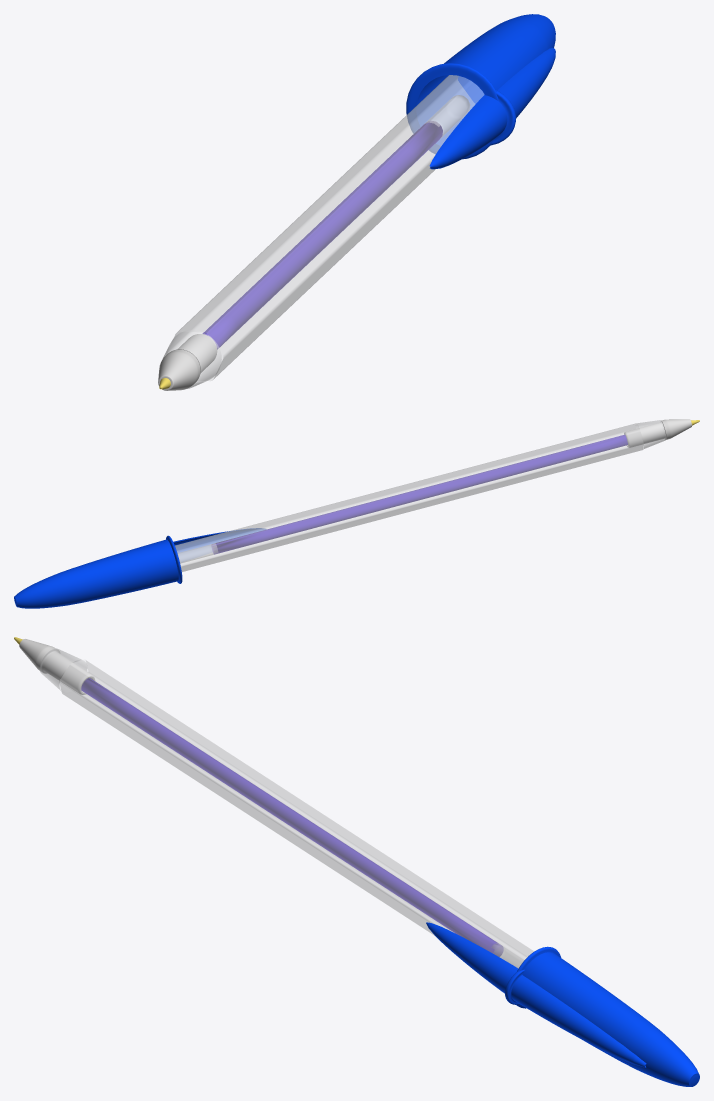
Rendered from stylo.glb.
3 renders of one model, top to bottom at view 1: azimuth 30°, elevation 25°; view 2: azimuth 150°, elevation 25°; view 3: azimuth 270°, elevation 25°, orthographic. The views are drawn at different scales.
Visible parts, largest first — view 1: Object_2; view 2: Object_2; view 3: Object_2.
Part boxes in pixels (left/top/right/bottom): Object_2: left=158, top=14, right=555, bottom=390; Object_2: left=14, top=419, right=699, bottom=608; Object_2: left=14, top=637, right=699, bottom=1086.
Bounding box in the file's own units: 47.51 × 12.27 × 46.4.
